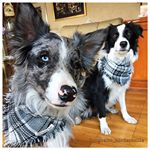puppy: (1, 1, 110, 118), (94, 19, 143, 136)
